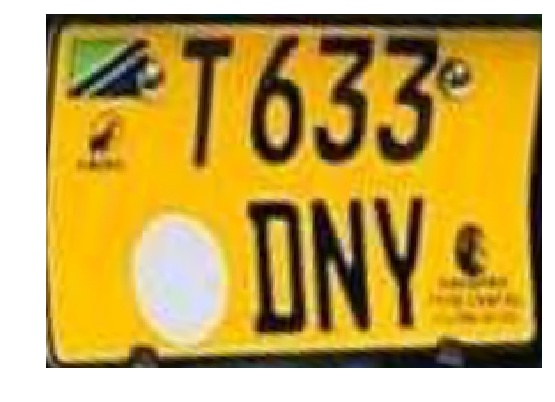T: (168, 29, 243, 177)
